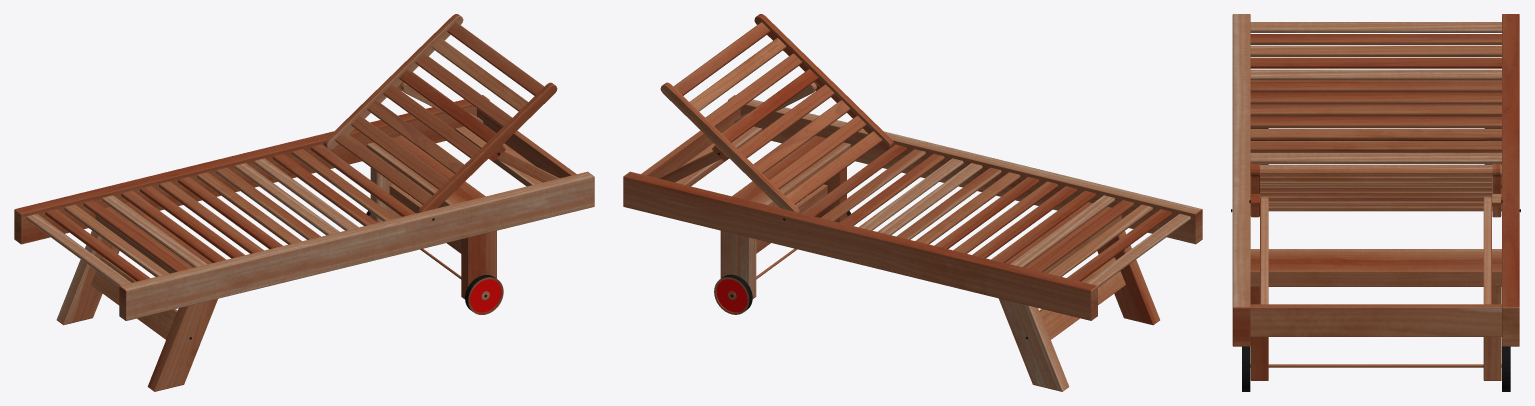
Rendered from sunchair_android.glb.
3 views of the same model, side by side, from view 1: azimuth 30°, elevation 25°; view 2: azimuth 150°, elevation 25°; view 3: azimuth 270°, elevation 25° (orthographic). The views are drawn at different scales.
Visible parts, largest first — view 1: wooden_sun_lounger; view 2: wooden_sun_lounger; view 3: wooden_sun_lounger.
Part boxes in pixels (bbox=[...]): wooden_sun_lounger: bbox=[14, 14, 594, 391]; wooden_sun_lounger: bbox=[623, 14, 1202, 391]; wooden_sun_lounger: bbox=[1231, 14, 1520, 391].
Size of the model in its own units: 1.8 by 0.77 by 0.75.
Materials: 1 (1 with a texture image).
